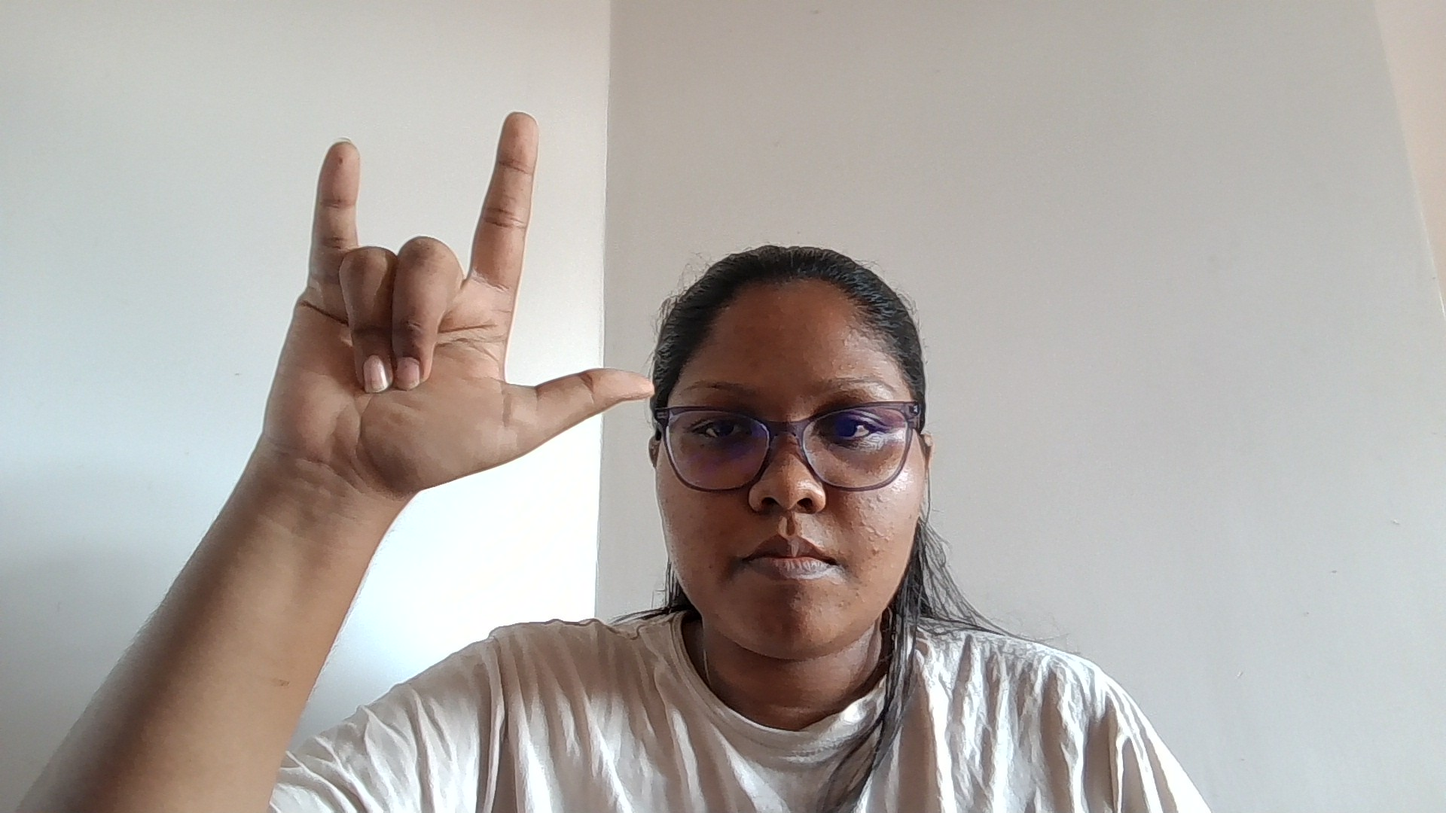I Love You: (245, 57, 680, 569)
